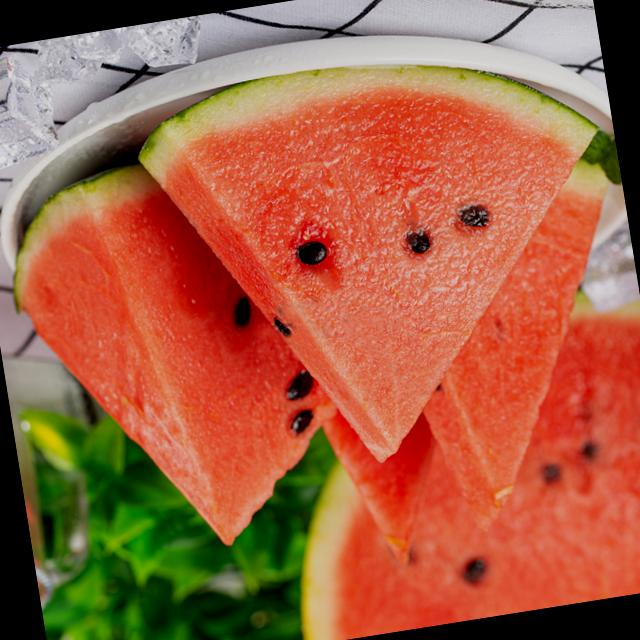dua hau: (141, 66, 594, 460), (14, 166, 335, 543), (424, 163, 604, 527), (323, 412, 431, 563)
